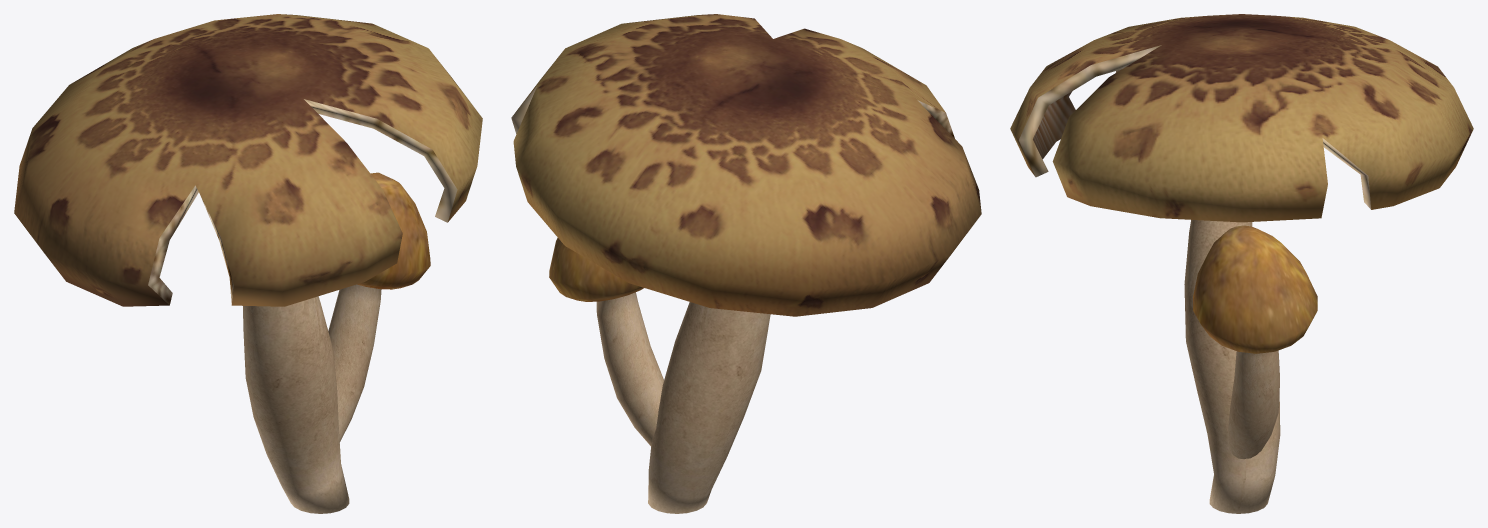
File: mushroom_ver2.FBX
The picture shows the model from 3 angles, left to right: view 1: azimuth 30°, elevation 25°; view 2: azimuth 150°, elevation 25°; view 3: azimuth 270°, elevation 25°; orthographic projection. The views are drawn at different scales.
Visible parts, largest first — view 1: Sphere001, Cylinder002; view 2: Sphere001, Cylinder002; view 3: Sphere001, Cylinder002.
Boxes of the visible parts, x1=… form: Sphere001: x1=14, y1=14, x2=482, y2=513; Cylinder002: x1=328, y1=172, x2=430, y2=442; Sphere001: x1=511, y1=14, x2=981, y2=513; Cylinder002: x1=549, y1=238, x2=663, y2=446; Sphere001: x1=1010, y1=14, x2=1473, y2=513; Cylinder002: x1=1193, y1=225, x2=1317, y2=459.
Size of the model in its own units: 12.42 by 13.18 by 12.61.
